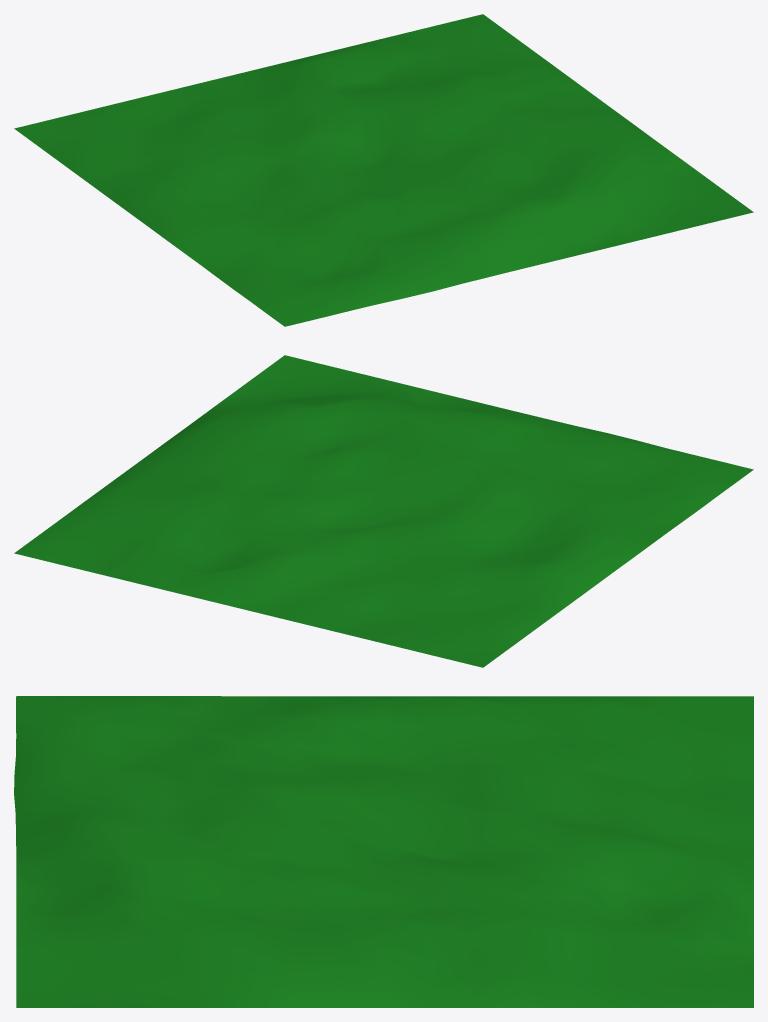
File: grass.obj
3 renders of one model, top to bottom at view 1: azimuth 30°, elevation 25°; view 2: azimuth 150°, elevation 25°; view 3: azimuth 270°, elevation 25°, orthographic. The views are drawn at different scales.
Parts seen in each view (by area): view 1: Plane; view 2: Plane; view 3: Plane.
Boxes of the visible parts, box(x1,y1,x2,y2) form: Plane: box(14, 14, 753, 326); Plane: box(14, 355, 753, 667); Plane: box(14, 696, 753, 1007).
Bounding box in the file's own units: 2 × 0.0919 × 2.01.
